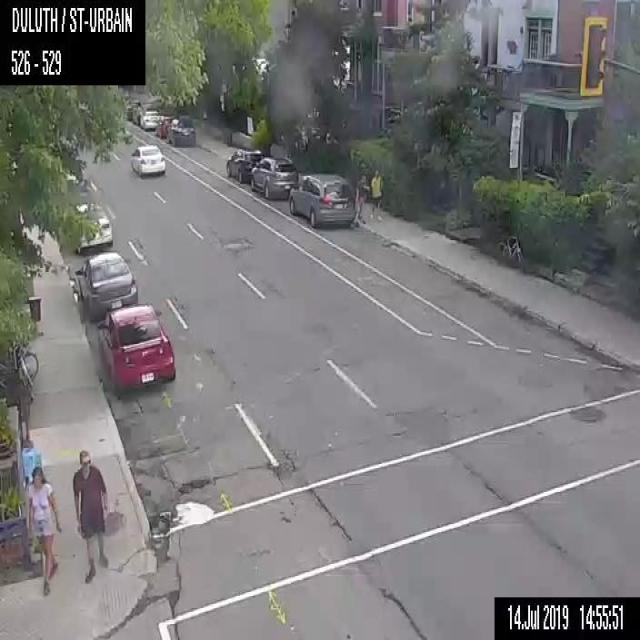pedestrian: (72, 448, 108, 583), (27, 464, 62, 596), (355, 169, 369, 224), (370, 168, 383, 220)
vehicle: (98, 304, 176, 391), (75, 251, 138, 317), (289, 173, 355, 227), (252, 156, 300, 200), (74, 202, 112, 250), (226, 147, 264, 183), (129, 144, 165, 176), (167, 116, 197, 145), (155, 114, 175, 138), (140, 108, 160, 128)
